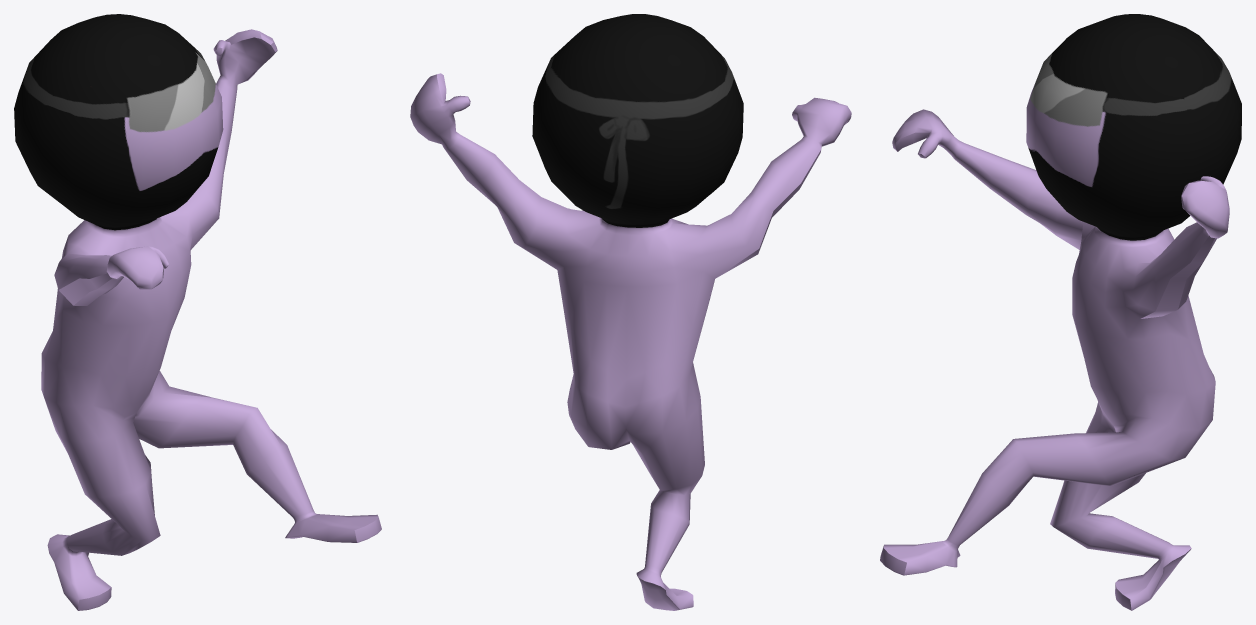
The model's file is jap_pseudo_ninja.obj.
3 views of the same model, side by side, from view 1: azimuth 30°, elevation 25°; view 2: azimuth 150°, elevation 25°; view 3: azimuth 270°, elevation 25° (orthographic). The views are drawn at different scales.
Visible parts, largest first — view 1: Virtual_Man; view 2: Virtual_Man; view 3: Virtual_Man.
Part boxes in pixels (x1,y1,x2,y2): Virtual_Man: [14, 14, 381, 610]; Virtual_Man: [410, 14, 851, 610]; Virtual_Man: [880, 14, 1241, 610].
Size of the model in its own units: 1.05 by 1.96 by 1.09.
